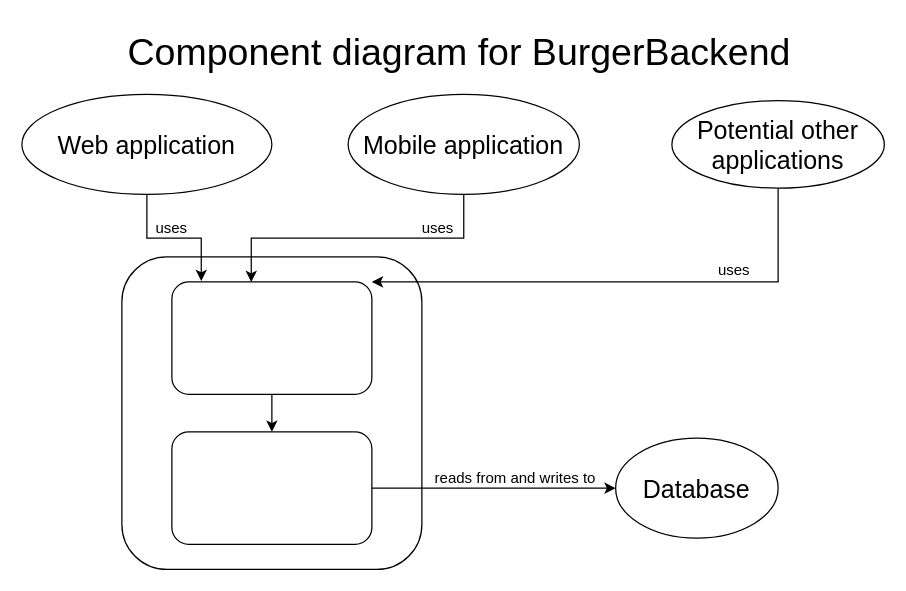
This 906x591 diagram has some shape labels left out. The box of each missing label's shape, as (x1, y1, x2, y2) in pixels:
Display data Displays data if the token has the correct authorisations: (171, 431, 372, 544)
Request token Provides token if user exists in the system: (171, 281, 372, 394)
